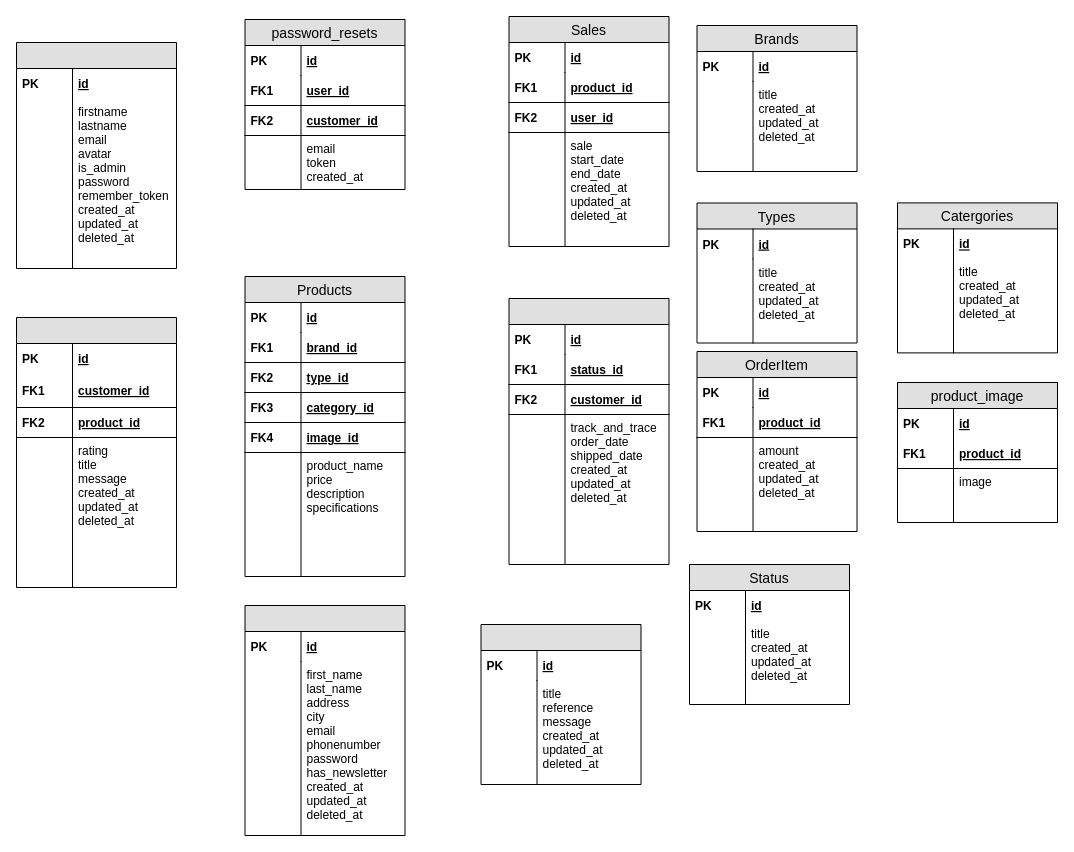
Image size: 1074x852. Some labels were removed from this diagram. Here are the shapes that lost their labels. From the top down, the box of each, then its label:
(16, 42, 176, 268): Users
(508, 298, 669, 564): Orders
(16, 316, 176, 588): Reviews
(244, 604, 405, 836): Customers
(480, 624, 641, 784): Newsletters
